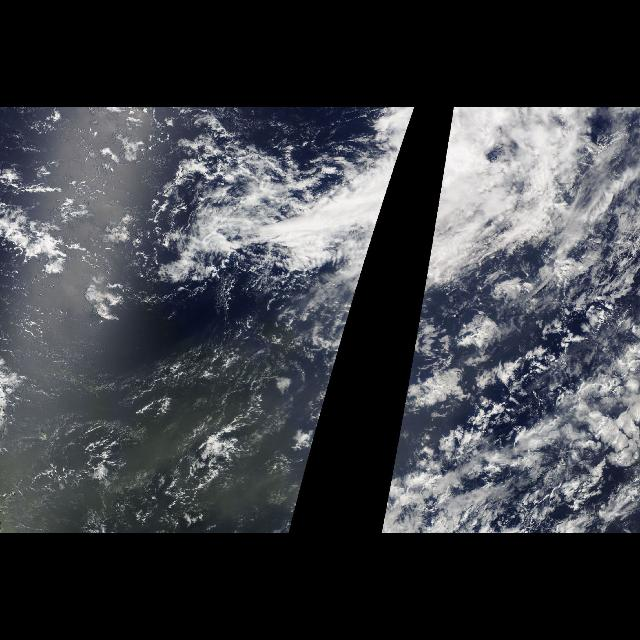Gravel: (2, 343, 342, 531), (478, 287, 614, 407)
